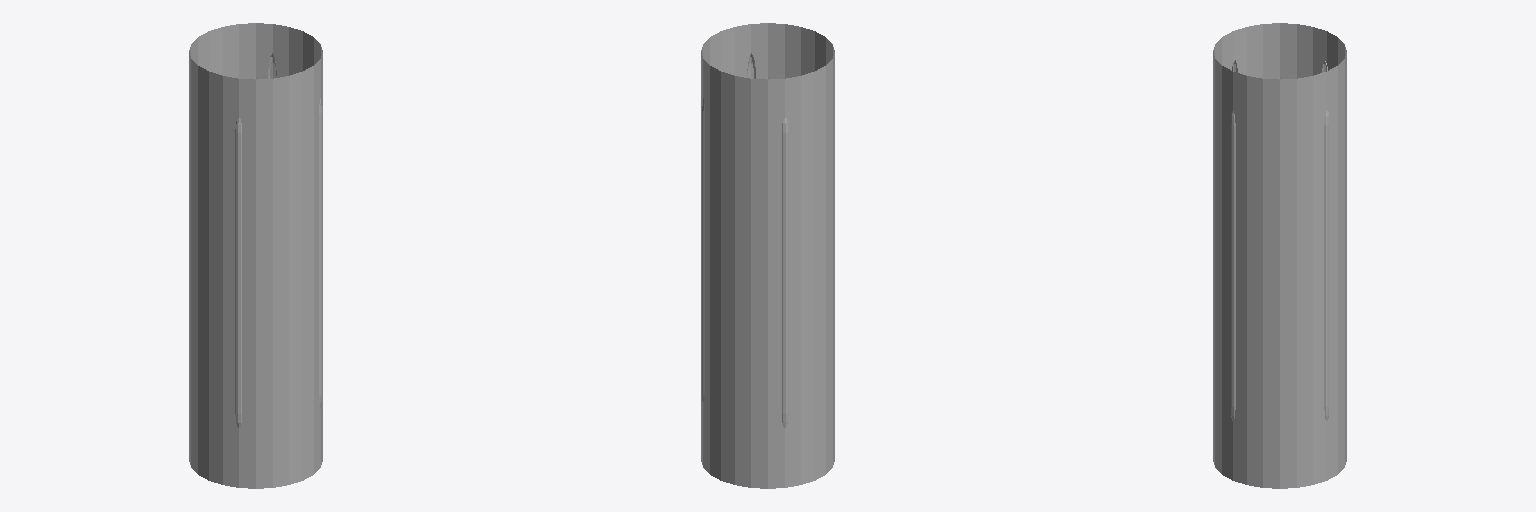
File: titan2_stage1_fuel1.obj
3 views of the same model, side by side, from view 1: azimuth 30°, elevation 25°; view 2: azimuth 150°, elevation 25°; view 3: azimuth 270°, elevation 25° (orthographic).
Visible parts, largest first — view 1: polySurface45 Titan2_Stage1_Fuel4; view 2: polySurface45 Titan2_Stage1_Fuel4; view 3: polySurface45 Titan2_Stage1_Fuel4.
Boxes of the visible parts, x1,y1,x2,y2 form: polySurface45 Titan2_Stage1_Fuel4: [189, 23, 322, 488]; polySurface45 Titan2_Stage1_Fuel4: [701, 23, 834, 488]; polySurface45 Titan2_Stage1_Fuel4: [1213, 23, 1346, 488].
Bounding box in the file's own units: 188 × 634 × 187.